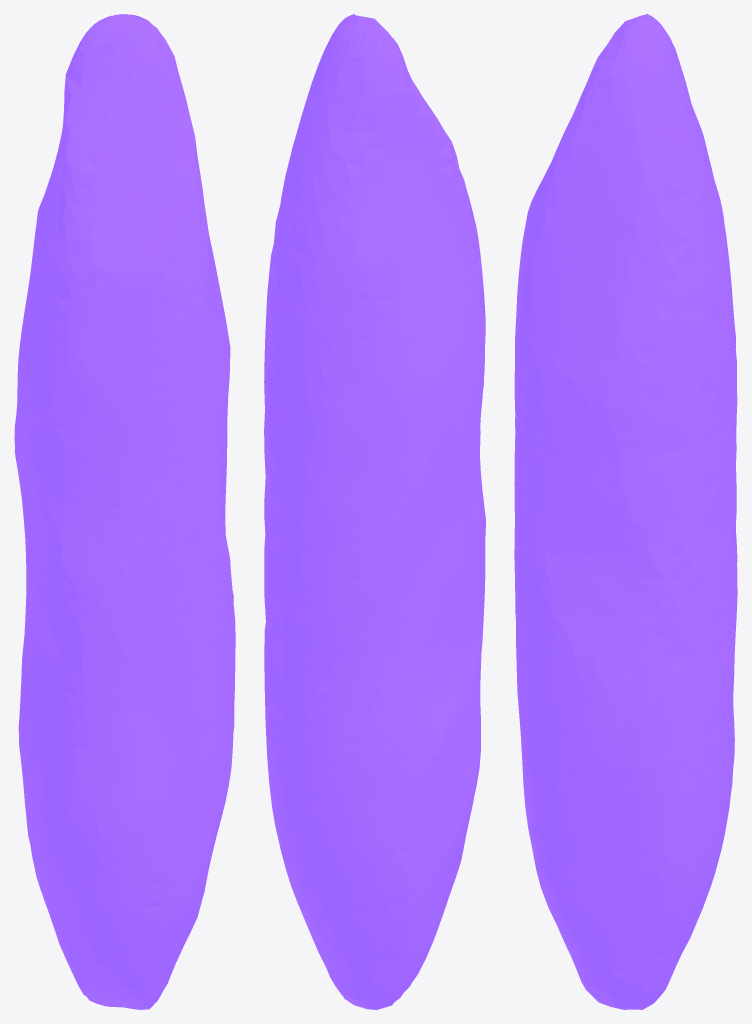
Rendered from Shard4.fbx.
3 views of the same model, side by side, from view 1: azimuth 30°, elevation 25°; view 2: azimuth 150°, elevation 25°; view 3: azimuth 270°, elevation 25° (orthographic).
Parts seen in each view (by area): view 1: Shard4; view 2: Shard4; view 3: Shard4.
Part boxes in pixels (<box>): Shard4: <box>14,14,235,1009</box>; Shard4: <box>264,14,485,1009</box>; Shard4: <box>514,14,737,1009</box>.
Size of the model in its own units: 128 by 640 by 131.
